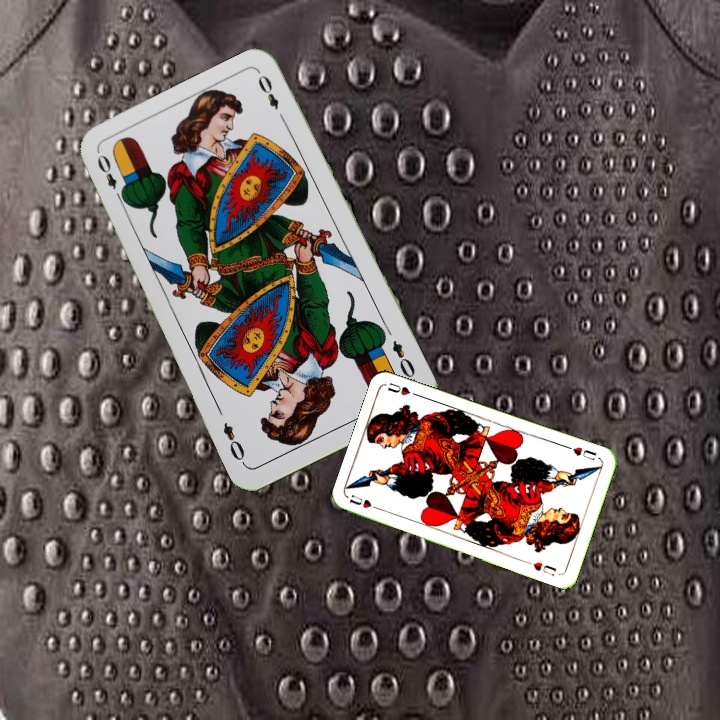EO: (93, 150, 127, 205), (388, 336, 418, 381)
HU: (346, 491, 384, 514), (562, 442, 599, 463)
